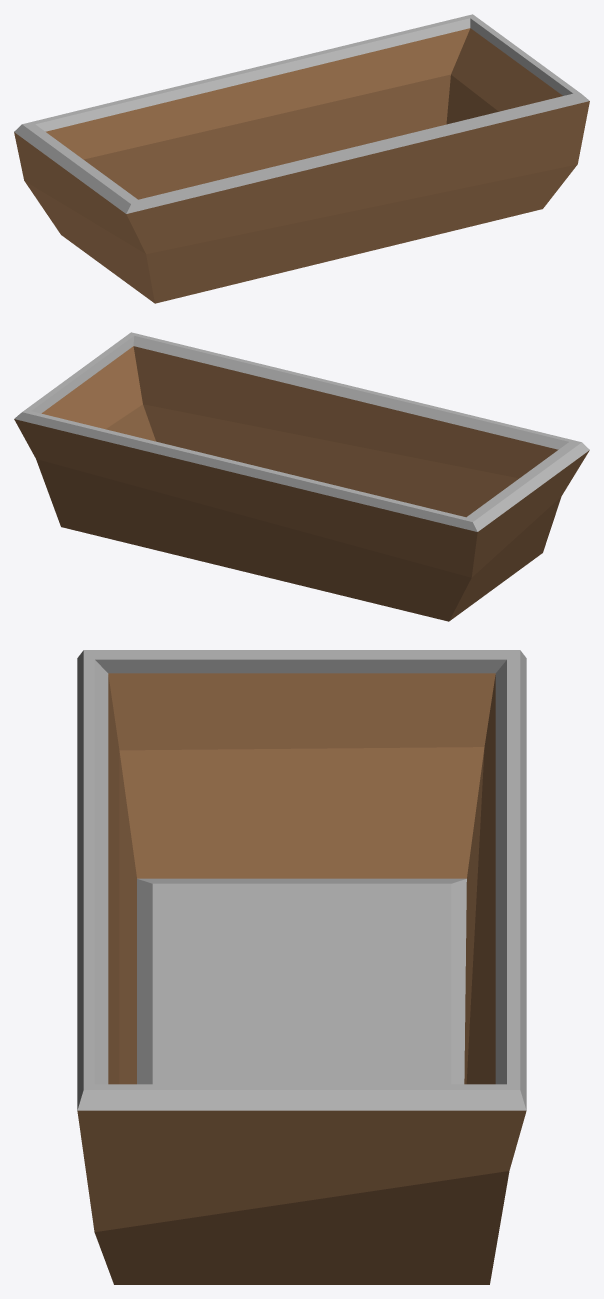
Rendered from Feedmanager_1 Winter.fbx.
3 views of the same model, one above another, from view 1: azimuth 30°, elevation 25°; view 2: azimuth 150°, elevation 25°; view 3: azimuth 270°, elevation 25° (orthographic). The views are drawn at different scales.
Parts seen in each view (by area): view 1: Feedmanager_mesh.001; view 2: Feedmanager_mesh.001; view 3: Feedmanager_mesh.001.
Part boxes in pixels (<box>): Feedmanager_mesh.001: <box>14,14,589,303</box>; Feedmanager_mesh.001: <box>14,332,589,621</box>; Feedmanager_mesh.001: <box>77,650,526,1284</box>.
Bounding box in the file's own units: 244 × 56.73 × 102.
